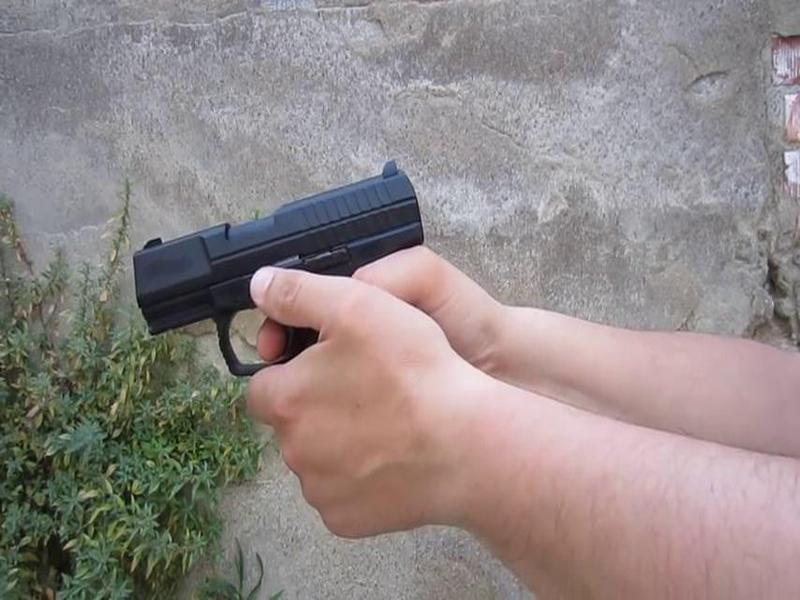Pistola: (110, 151, 432, 390)
